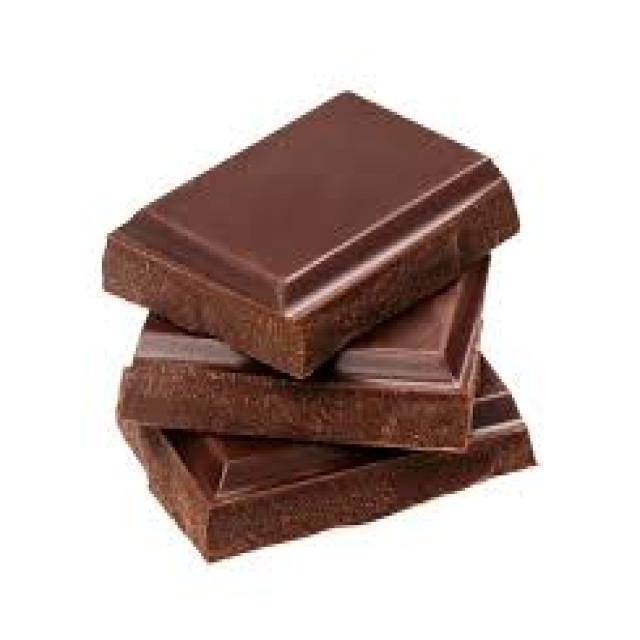Chocolate: (103, 85, 539, 564)
